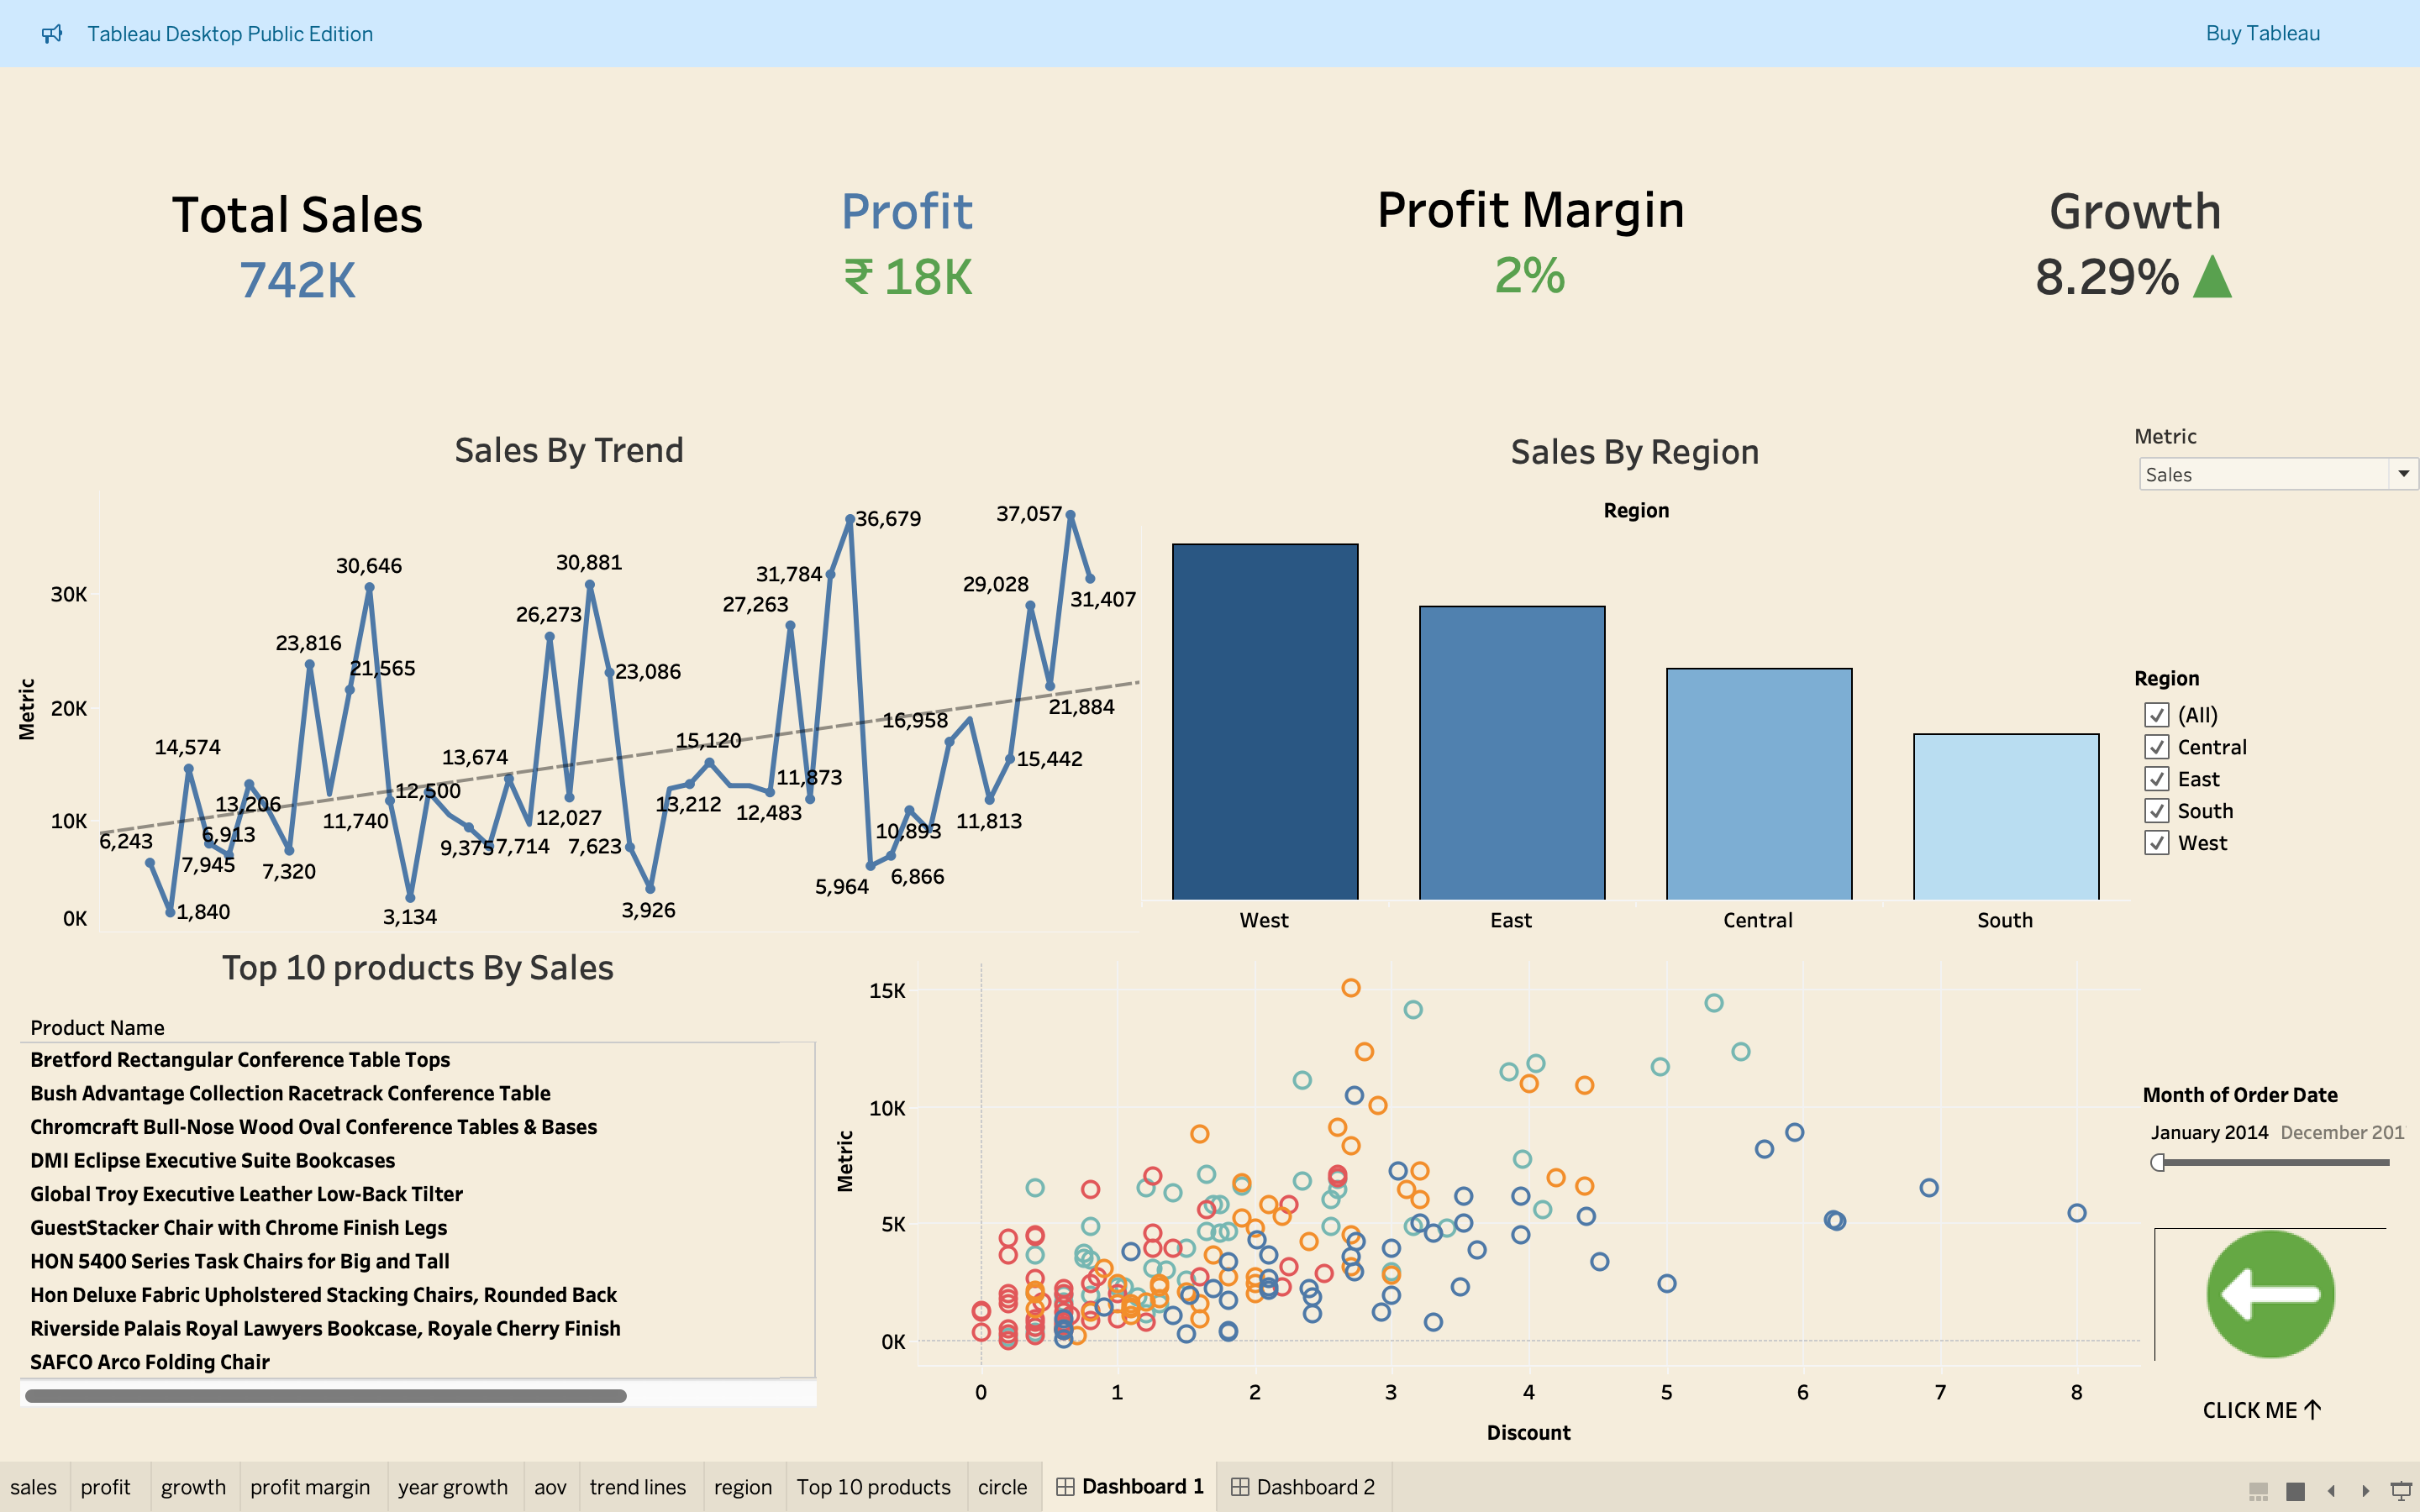

The dashboard page shown, as its layout file describes it:
{"tool":"tableau","page":{"name":"Dashboard 1","canvas":[1000,1000],"units":"permille","ordinal":0},"visuals":[{"type":"worksheet","title":"profit margin","mark":"Automatic","box":[502.6,2.5,260.1,244.7]},{"type":"worksheet","title":"sales","mark":"Automatic","box":[2.3,3.8,242.5,249.7]},{"type":"worksheet","title":"profit ","mark":"Automatic","box":[244.9,3.8,260.1,244.7]},{"type":"worksheet","title":"growth","mark":"Automatic","box":[763.3,5,239,242.2]},{"type":"worksheet","title":"trend lines","mark":"Automatic","rows":["Calculation_1850135079084814344"],"cols":["Order Date"],"box":[0,252.2,470.7,368.3]},{"type":"worksheet","title":"region","mark":"Automatic","rows":["Calculation_1850135079084814344"],"cols":["Region"],"box":[471.3,253.4,409.2,369.5]},{"type":"parameter","param":"[Parameters].[Parameter 1]","box":[881.7,254.7,120.1,169.8]},{"type":"filter","title":"region","param":"[federated.09pl5a81gb49yt11yrnxc1l9p0f7].[none:Region:nk]","box":[881.7,428.2,118.3,275.9]},{"type":"worksheet","title":"circle","mark":"Automatic","rows":["Calculation_1850135079084814344"],"cols":["Discount"],"box":[338,623,546.8,374.5]},{"type":"filter","title":"trend lines","param":"[federated.09pl5a81gb49yt11yrnxc1l9p0f7].[tmn:Order Date:qk]","box":[885.2,726.6,110.8,96.1]},{"type":"dashboard-object","box":[890.5,832.7,95.7,94.9]},{"type":"text","box":[902.4,943.8,66,37.5]}]}

Visuals, with their boxes on the dashboard's canvas, which has no fixed pixel size, in thousandths of its width and height (x1, y1, x2, y2). These are canvas units, not pixel positions in the 2420x1512 screenshot, which may show the page scaled, cropped or inside an application window:
"profit margin" worksheet: bbox=[503, 2, 763, 247]
"sales" worksheet: bbox=[2, 4, 245, 254]
"profit " worksheet: bbox=[245, 4, 505, 248]
"growth" worksheet: bbox=[763, 5, 1002, 247]
"trend lines" worksheet: bbox=[0, 252, 471, 620]
"region" worksheet: bbox=[471, 253, 880, 623]
parameter: bbox=[882, 255, 1002, 424]
"region" filter: bbox=[882, 428, 1000, 704]
"circle" worksheet: bbox=[338, 623, 885, 998]
"trend lines" filter: bbox=[885, 727, 996, 823]
dashboard-object: bbox=[890, 833, 986, 928]
text: bbox=[902, 944, 968, 981]
